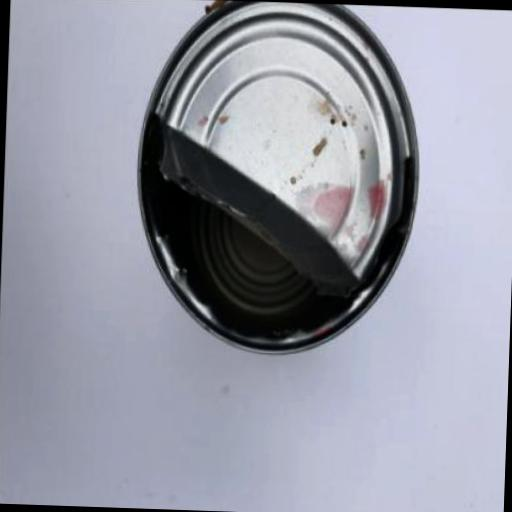metal: (128, 0, 423, 356)
